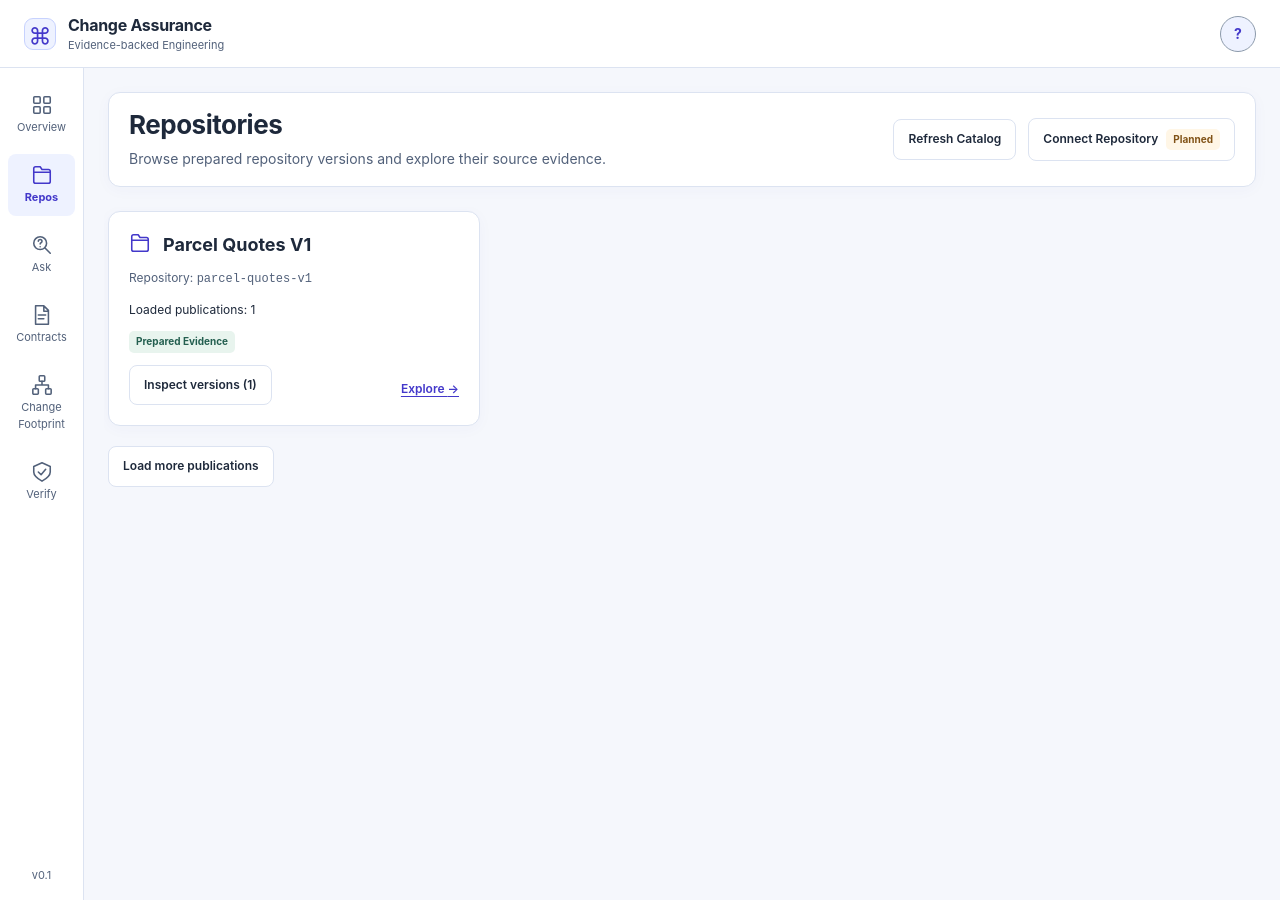
Test: paginates and refreshes repository tiles without inferring a latest publication
This screenshot has width=1280, height=900.
Expected: the element named "Repository parcel-quotes-v1" shows "Loaded publications: 1", [108,211,480,426]
Click the button "Load more publications".
click(191, 467)  # box [108,446,274,487]
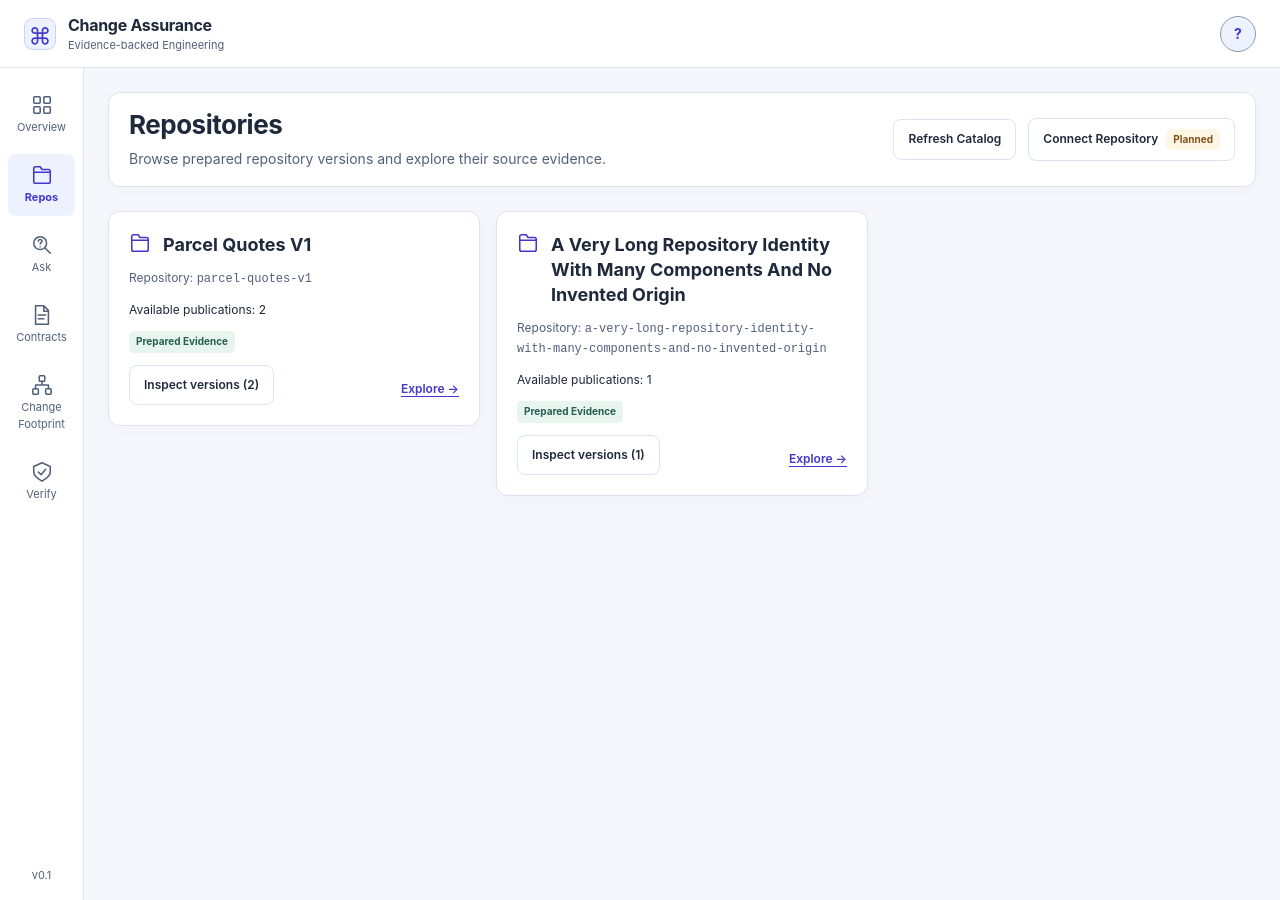
Expected: the element named "Repository parcel-quotes-v1" shows "Available publications: 2", [108,211,480,426]
Expected: the button "Load more publications" is gone
Click the button "Refresh Catalog".
click(955, 139)  # box [894,119,1016,160]
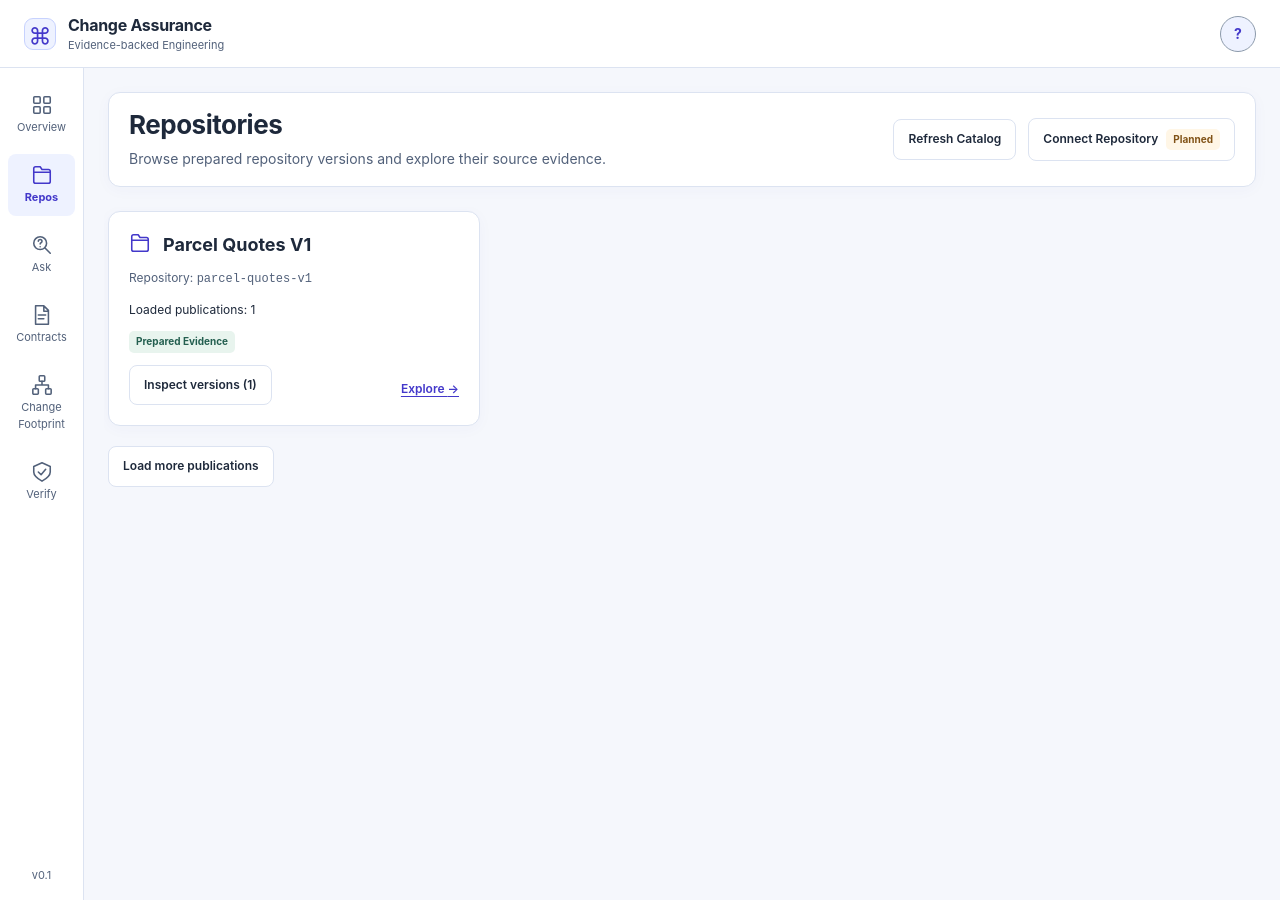
Expected: the element named "Repository parcel-quotes-v1" shows "Loaded publications: 1", [108,211,480,426]
